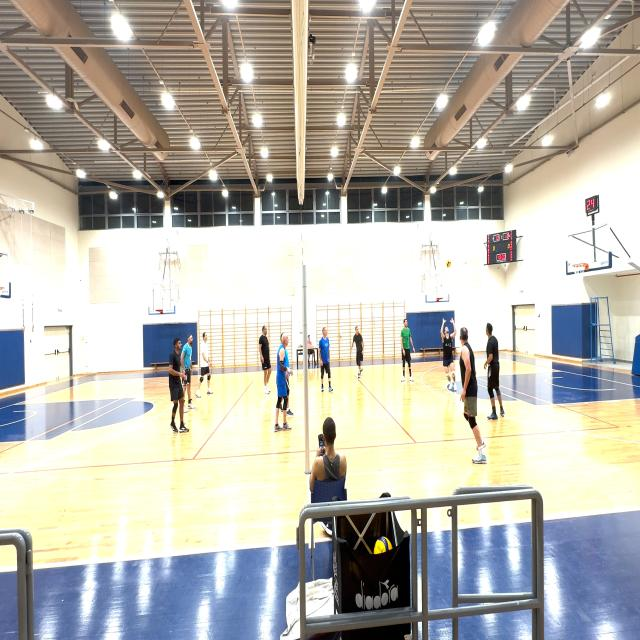volleyball: (373, 536, 393, 555), (446, 260, 451, 267)
